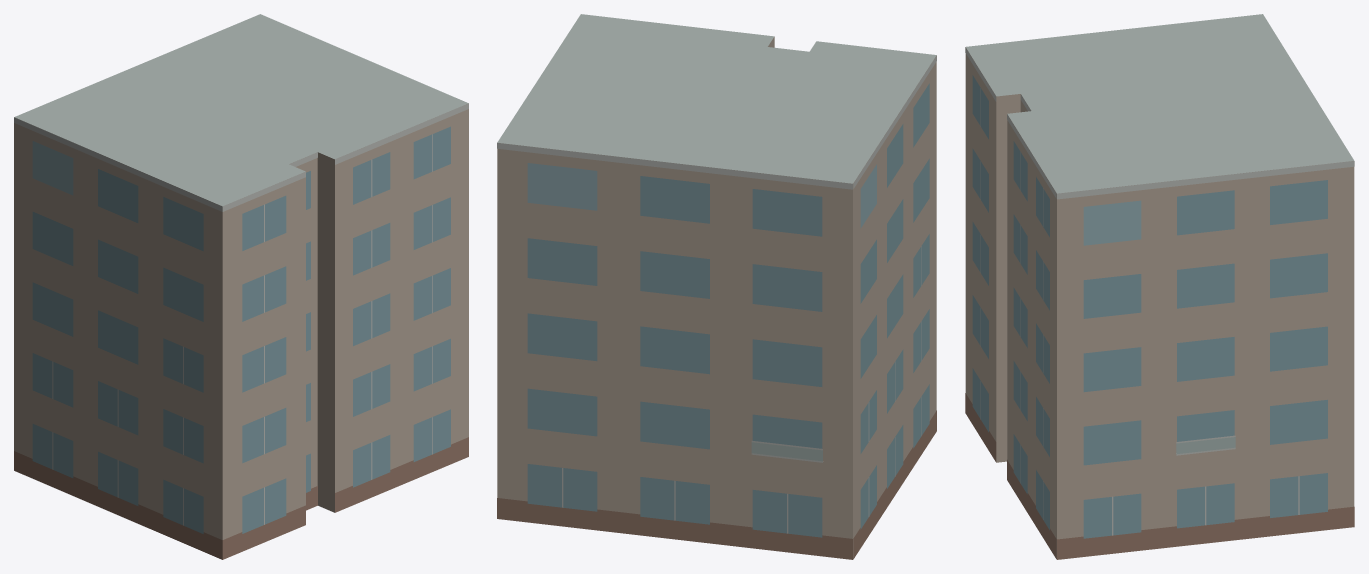
Rendered from survey-upis-32653650.glb.
3 renders of one model, left to right at view 1: azimuth 30°, elevation 25°; view 2: azimuth 150°, elevation 25°; view 3: azimuth 270°, elevation 25°, orthographic. The views are drawn at different scales.
Parts seen in each view (by area): view 1: survey-upis-32653650.tmp; view 2: survey-upis-32653650.tmp; view 3: survey-upis-32653650.tmp.
Part boxes in pixels (left/top/right/bottom): survey-upis-32653650.tmp: left=14, top=14, right=468, bottom=559; survey-upis-32653650.tmp: left=497, top=14, right=936, bottom=559; survey-upis-32653650.tmp: left=965, top=14, right=1354, bottom=559.
Bounding box in the file's own units: 16.05 × 15.25 × 14.69.
